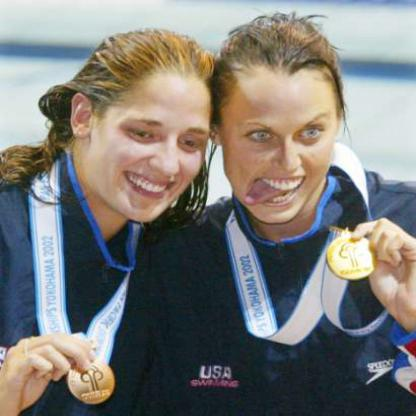face: (91, 38, 215, 227), (219, 41, 339, 226)
